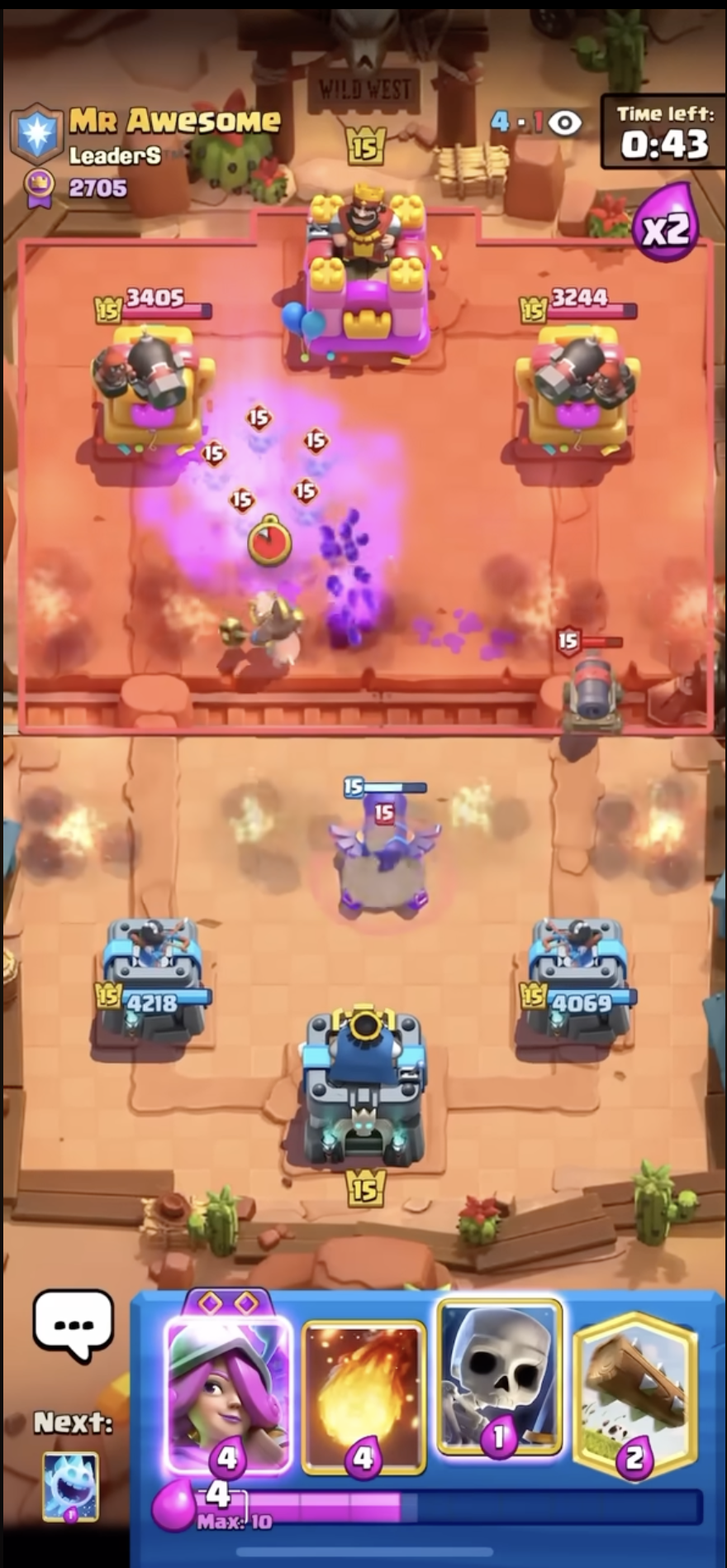evo_cannon: (328, 747, 447, 935)
hog_rider: (215, 579, 319, 695)
